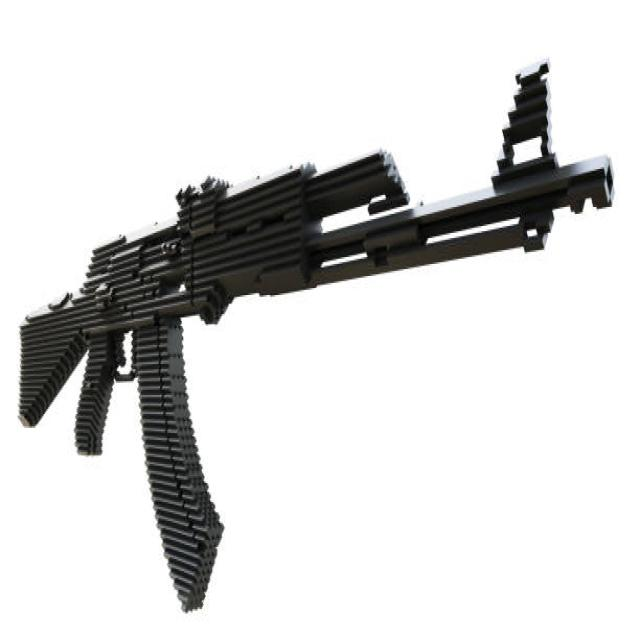rifle: (22, 53, 622, 616)
